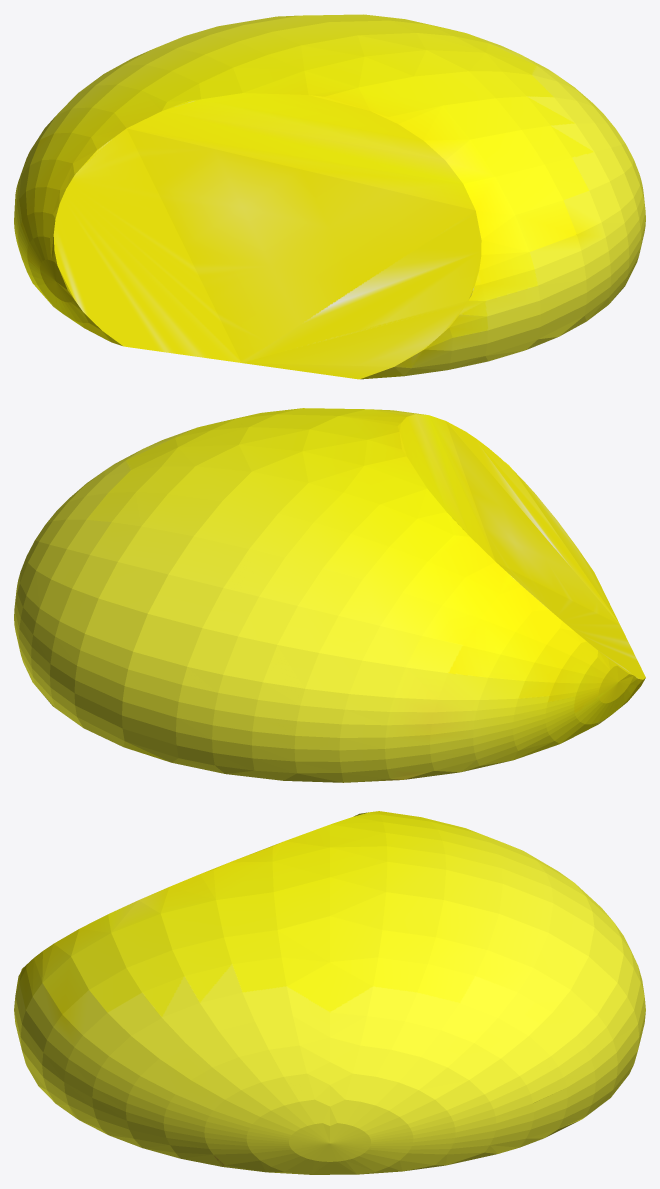
File: LeftFoot.obj
3 views of the same model, one above another, from view 1: azimuth 30°, elevation 25°; view 2: azimuth 150°, elevation 25°; view 3: azimuth 270°, elevation 25° (orthographic). The views are drawn at different scales.
Parts seen in each view (by area): view 1: Linux_Tux.001_Linux_Tux.007; view 2: Linux_Tux.001_Linux_Tux.007; view 3: Linux_Tux.001_Linux_Tux.007.
Boxes of the visible parts, bbox=[...] form: Linux_Tux.001_Linux_Tux.007: bbox=[14, 14, 645, 379]; Linux_Tux.001_Linux_Tux.007: bbox=[14, 408, 645, 782]; Linux_Tux.001_Linux_Tux.007: bbox=[14, 811, 645, 1174].
Size of the model in its own units: 0.5608 by 0.1829 by 0.5608.
Materials: 1 (1 with a texture image).
